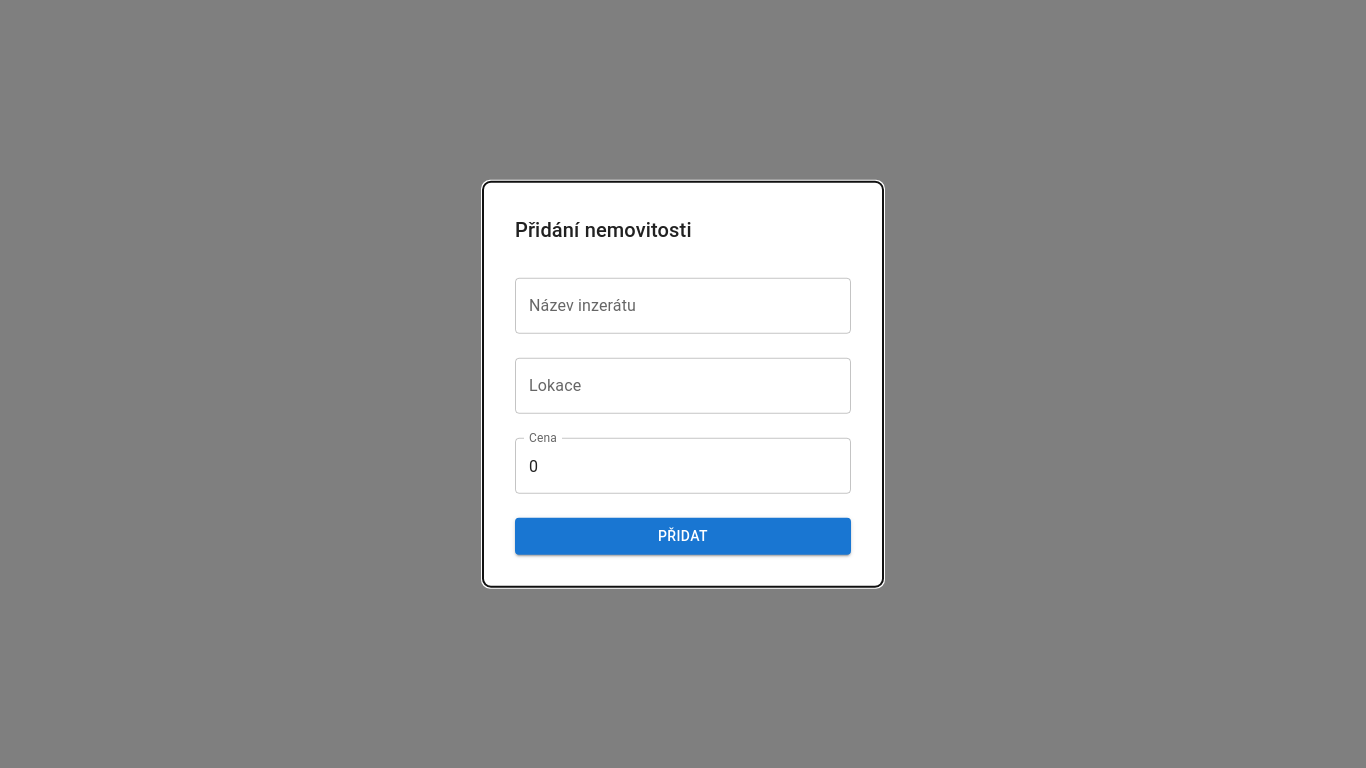
AddEditForm Component › should show validation error on invalid input
The width and height of the screenshot is (1366, 768).
Click the button "Přidat".
click(683, 536)  # box [515,518,851,554]
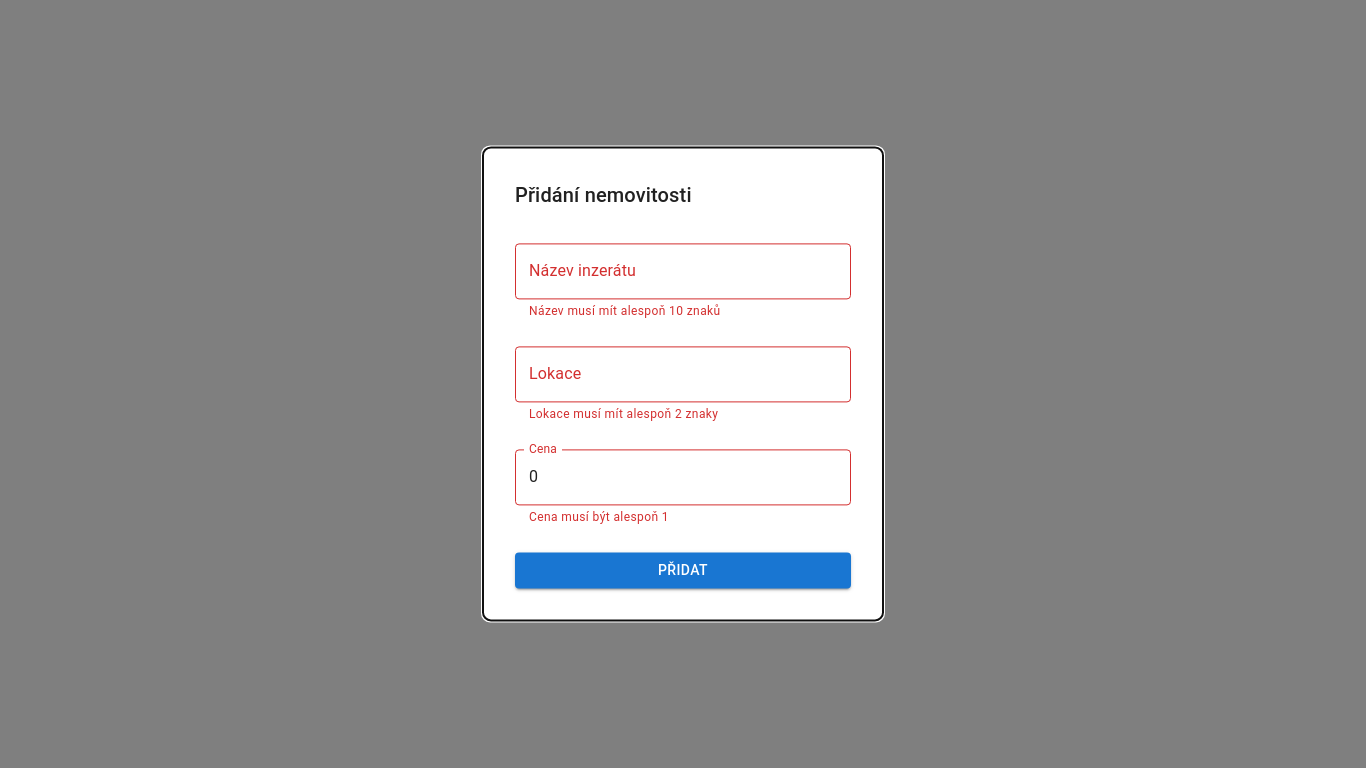
expect the text "Název musí mít alespoň 10 znaků" is shown: met, box [529,304,721,318]
